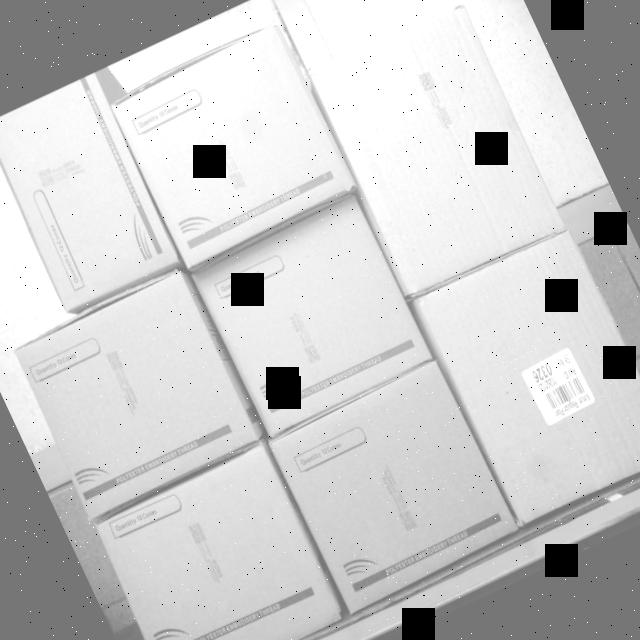box: (303, 2, 566, 298), (412, 223, 640, 529), (268, 358, 518, 610), (106, 16, 356, 263), (190, 191, 438, 437), (10, 273, 259, 516), (87, 441, 343, 640), (0, 72, 181, 314)
